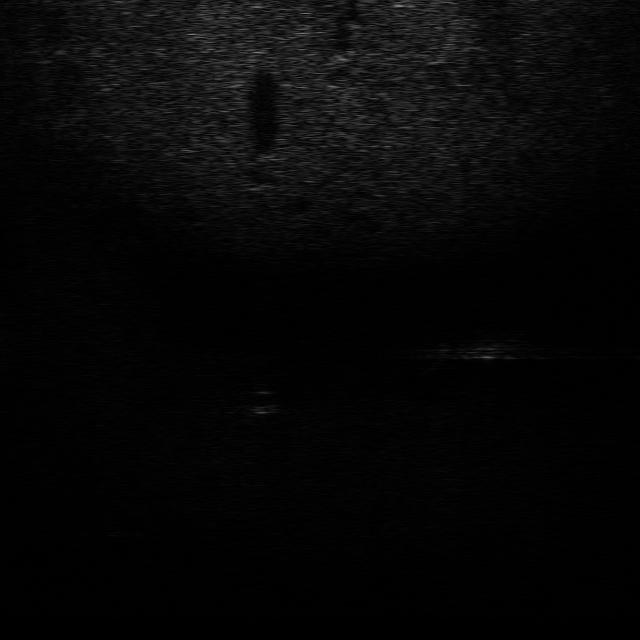ball: (240, 390, 289, 418)
human body: (418, 330, 538, 373)
